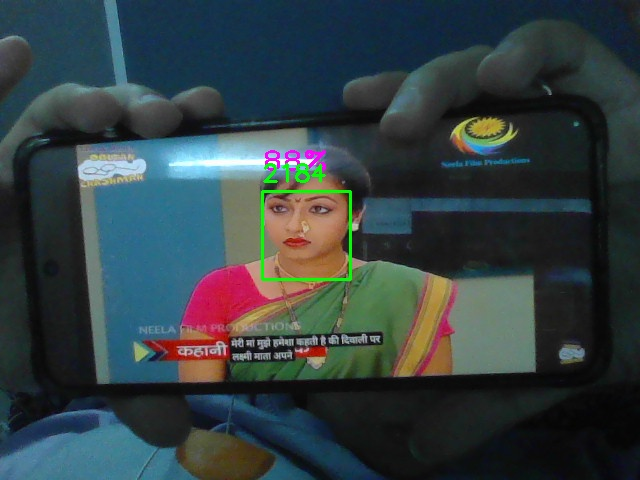fake: (262, 191, 351, 280)
